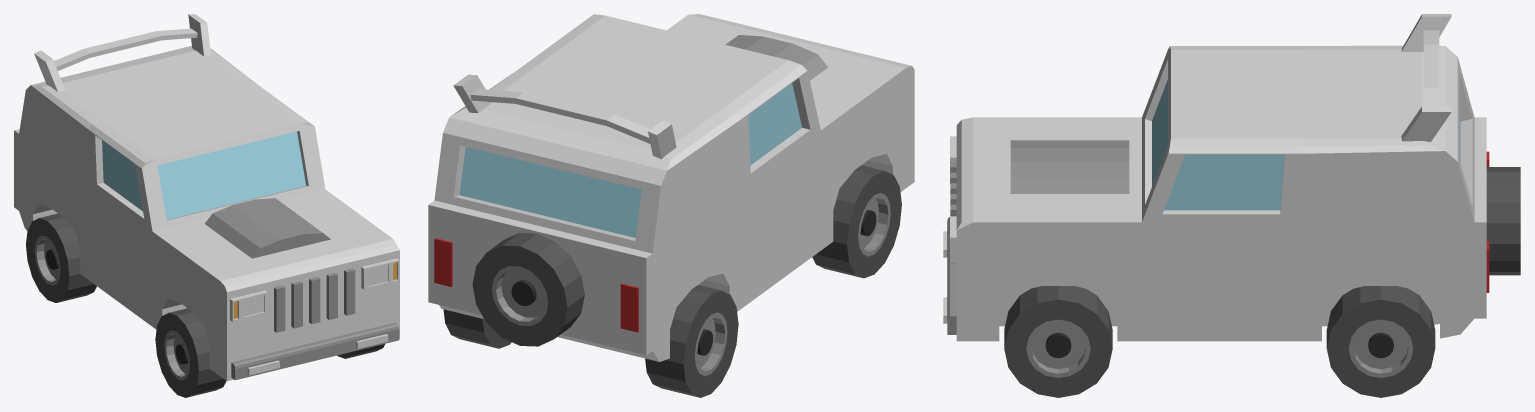
The model's file is SandCar.fbx.
3 views of the same model, side by side, from view 1: azimuth 30°, elevation 25°; view 2: azimuth 150°, elevation 25°; view 3: azimuth 270°, elevation 25° (orthographic). The views are drawn at different scales.
Visible parts, largest first — view 1: MainColor, Main, Cylinder.002, Cylinder.001, MainColor2; view 2: MainColor, Main, Cylinder.004, Cylinder.002, Cylinder.001, MainColor2, Cylinder.003; view 3: MainColor, Main, Cylinder.003, Cylinder.005, MainColor2, Cylinder.004.
Part boxes in pixels (x1=…): MainColor: x1=14, y1=46, x2=399, y2=381; Main: x1=102, y1=131, x2=399, y2=380; Cylinder.002: x1=26, y1=213, x2=96, y2=302; Cylinder.001: x1=155, y1=308, x2=226, y2=397; MainColor2: x1=34, y1=14, x2=399, y2=321; MainColor: x1=428, y1=14, x2=914, y2=361; Main: x1=434, y1=35, x2=827, y2=332; Cylinder.004: x1=472, y1=233, x2=584, y2=346; Cylinder.002: x1=645, y1=285, x2=738, y2=397; Cylinder.001: x1=812, y1=165, x2=901, y2=278; MainColor2: x1=453, y1=74, x2=676, y2=159; Cylinder.003: x1=443, y1=309, x2=511, y2=348; MainColor: x1=956, y1=45, x2=1486, y2=341; Main: x1=943, y1=80, x2=1489, y2=334; Cylinder.003: x1=1326, y1=286, x2=1435, y2=397; Cylinder.005: x1=1004, y1=286, x2=1112, y2=397; MainColor2: x1=950, y1=14, x2=1451, y2=263; Cylinder.004: x1=1486, y1=167, x2=1520, y2=275.
Size of the model in its own units: 139 by 156 by 293.
